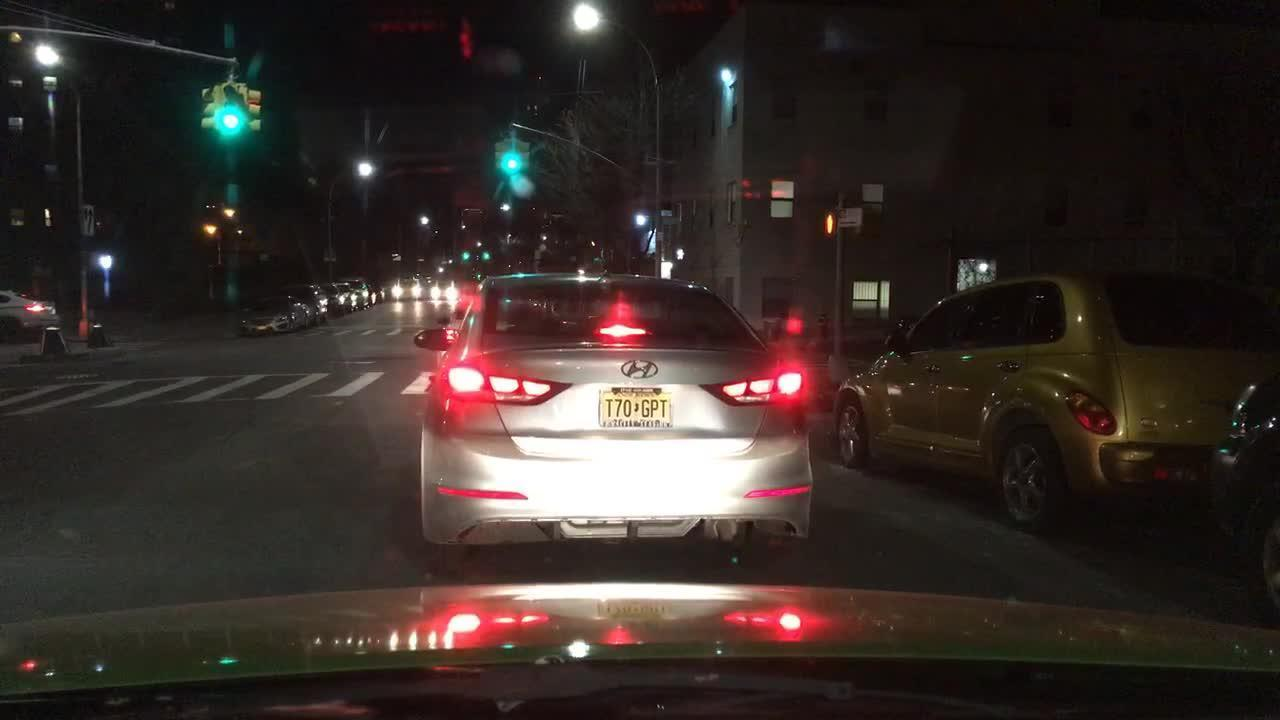Hyundai: (617, 354, 661, 384)
